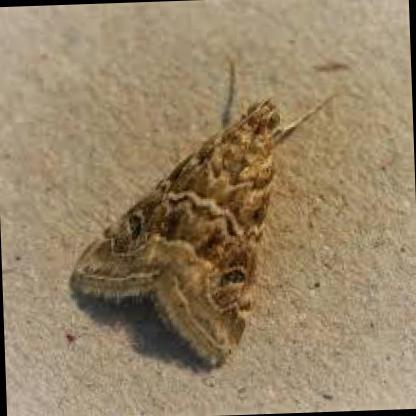Hellula undalis: (65, 80, 343, 369)
